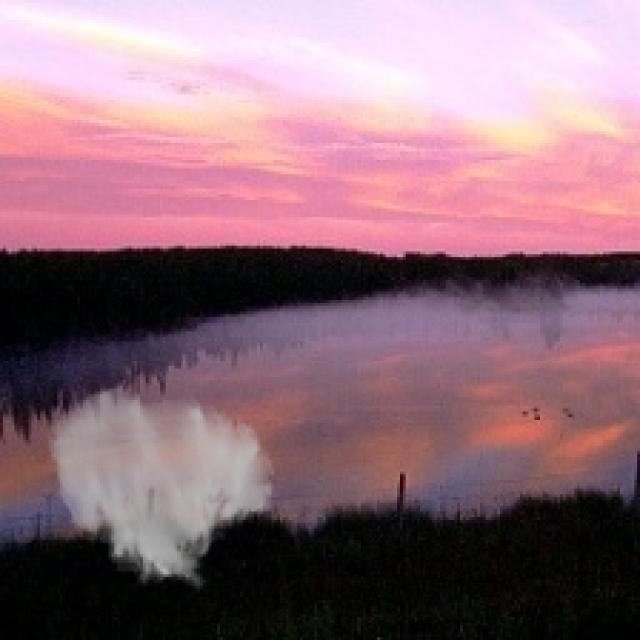smoke: (46, 386, 277, 591)
